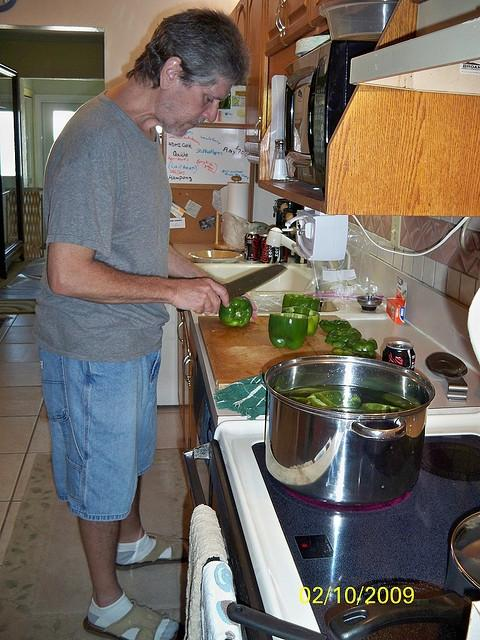bell pepper: (269, 312, 308, 350), (282, 306, 320, 336), (306, 390, 361, 410), (219, 296, 253, 328), (283, 294, 320, 312), (326, 328, 362, 342), (356, 403, 400, 414), (318, 319, 352, 333), (346, 338, 378, 352), (286, 396, 312, 406), (324, 349, 352, 356)
